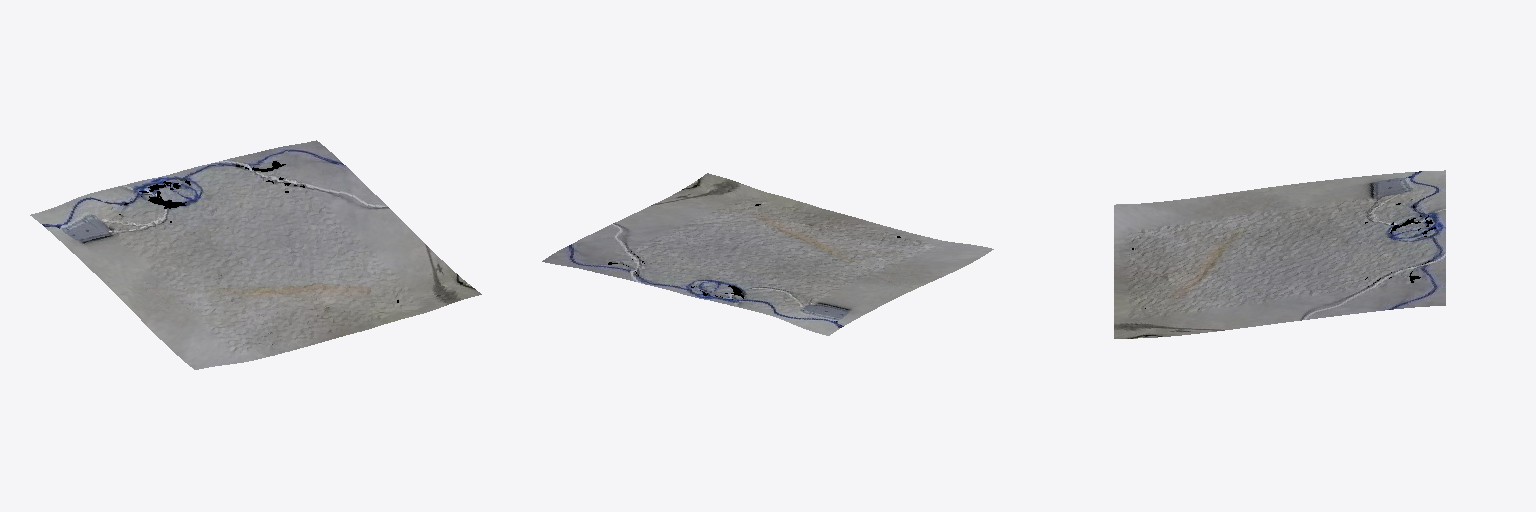
3 renders of one model, left to right at view 1: azimuth 30°, elevation 25°; view 2: azimuth 150°, elevation 25°; view 3: azimuth 270°, elevation 25°, orthographic.
Size of the model in its own units: 1.54 by 0.2372 by 1.54.
1 materials, 1 textured.